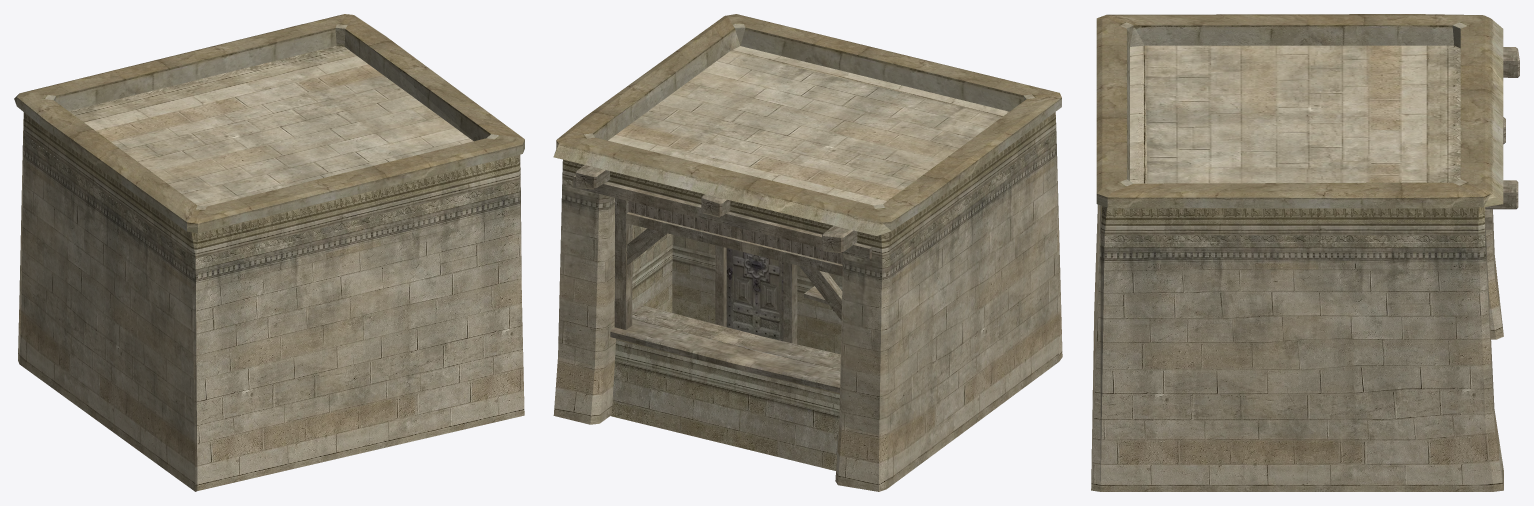
The model's file is TW2_5_SHOP_01_1-transformed.glb.
3 renders of one model, left to right at view 1: azimuth 30°, elevation 25°; view 2: azimuth 150°, elevation 25°; view 3: azimuth 270°, elevation 25°, orthographic. The views are drawn at different scales.
Parts seen in each view (by area): view 1: default; view 2: default; view 3: default.
Part boxes in pixels (x1,y1,x2,y2): default: [14, 14, 524, 491]; default: [553, 14, 1062, 491]; default: [1091, 14, 1519, 491].
Bounding box in the file's own units: 4.85 × 3.7 × 4.77.
5 materials, 5 textured.
